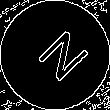N_SW: (23, 23, 87, 87)
